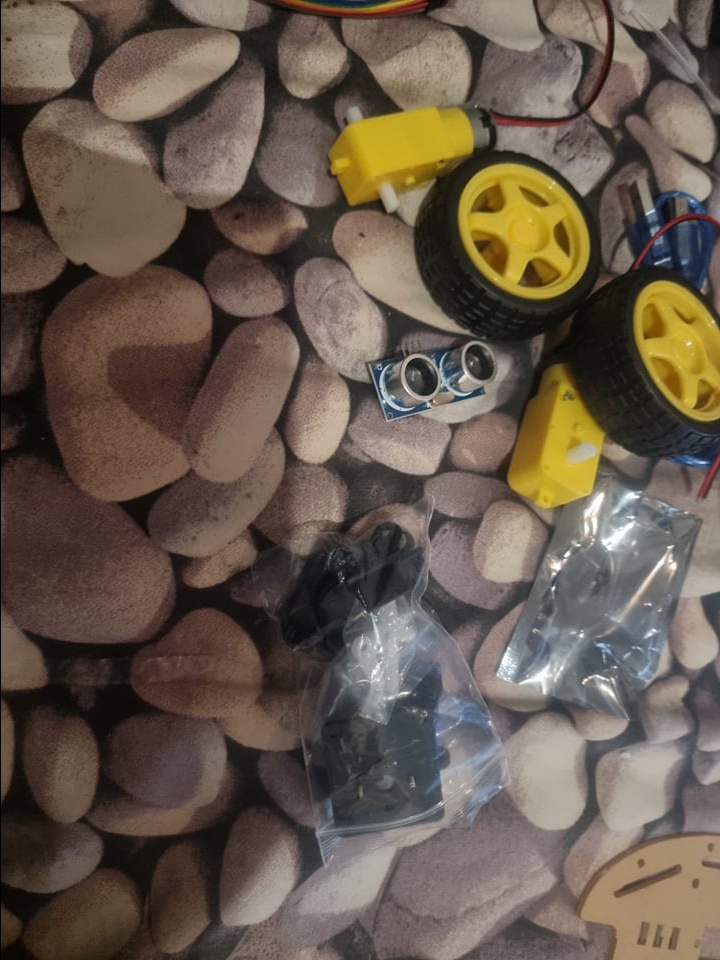SENSOR: (372, 335, 495, 422)
